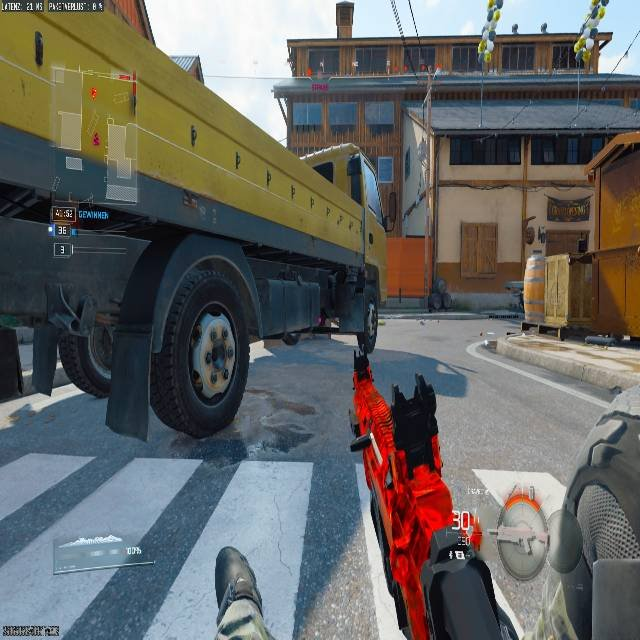head: (495, 496, 551, 575)
player: (425, 279, 451, 314), (318, 308, 327, 325)
